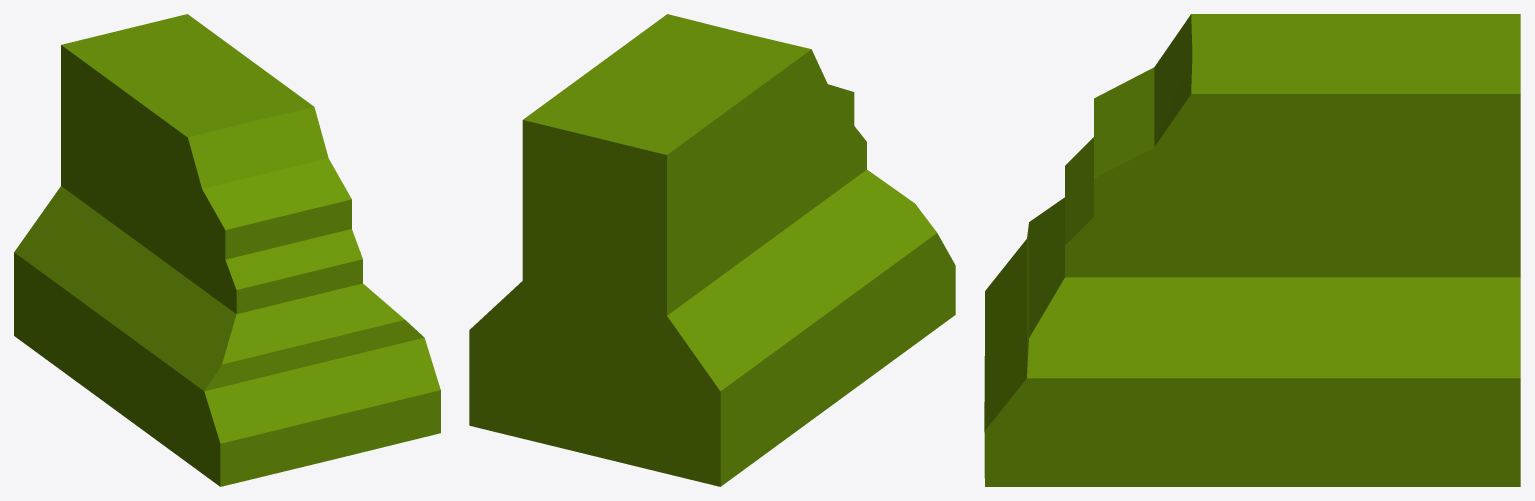
File: SM_Barriere1_damaged.fbx
3 views of the same model, side by side, from view 1: azimuth 30°, elevation 25°; view 2: azimuth 150°, elevation 25°; view 3: azimuth 270°, elevation 25° (orthographic). The views are drawn at different scales.
Parts seen in each view (by area): view 1: Barriere1_damaged; view 2: Barriere1_damaged; view 3: Barriere1_damaged.
Part boxes in pixels (x1=…): Barriere1_damaged: x1=14, y1=14, x2=440, y2=486; Barriere1_damaged: x1=469, y1=14, x2=955, y2=486; Barriere1_damaged: x1=984, y1=14, x2=1520, y2=486.
Size of the model in its own units: 50 by 60.63 by 81.15.
